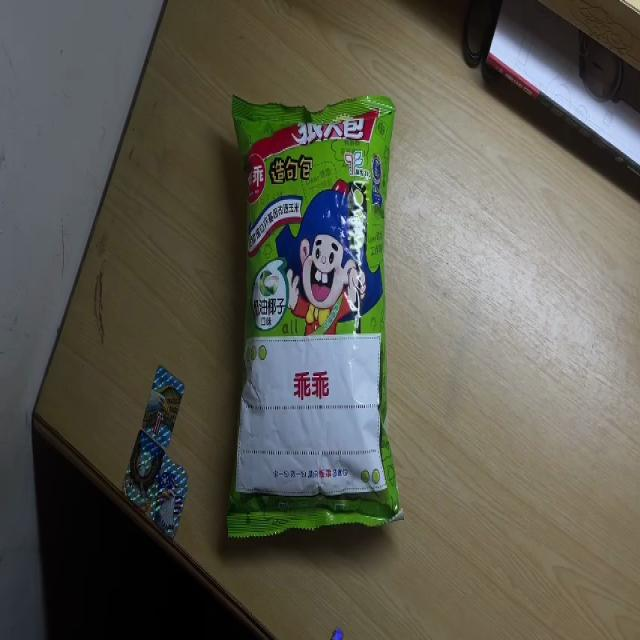Good-Luck: (226, 94, 404, 540)
